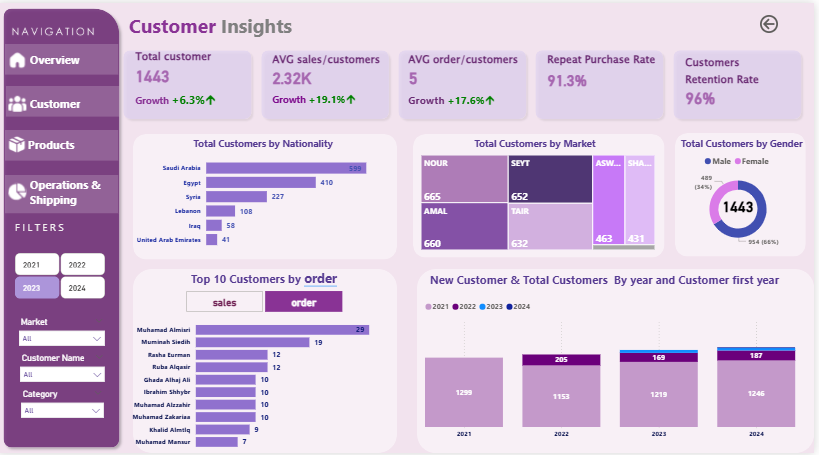

The dashboard page shown, as its layout file describes it:
{"tool":"powerbi","page":{"name":"Customer Insights","canvas":[1360,750],"ordinal":1},"visuals":[{"type":"shape","box":[691,219,419,206],"z":0},{"type":"shape","box":[431.5,72,227,129],"z":1000},{"type":"shape","box":[1118,72,227.5,128.8],"z":2000},{"type":"shape","box":[0,0,211.2,750],"z":3000},{"type":"shape","box":[11.2,68.8,188.8,51.2],"z":4000},{"type":"image","box":[16.1,35.7,150.9,30],"z":5000},{"type":"advancedSlicerVisual","fields":{"Values":["DimDate.Year"]},"box":[23.3,391.7,161.7,126.7],"z":6000},{"type":"textbox","box":[22.5,358.8,102.5,32.5],"z":7000},{"type":"actionButton","box":[13.8,67.5,163.8,53.8],"z":8000},{"type":"shape","box":[12.5,138.8,188.8,51.2],"z":9000},{"type":"shape","box":[11.2,211.2,188.8,51.2],"z":10000},{"type":"shape","box":[11.2,286.2,188.8,63.8],"z":11000},{"type":"actionButton","box":[13.8,139.3,165.9,55.3],"z":12000},{"type":"actionButton","box":[9.2,209.1,164.8,54.1],"z":13000},{"type":"actionButton","box":[12.5,277.5,165,72.5],"z":14000},{"type":"slicer","fields":{"Values":["Customers.customer Name"]},"box":[26.2,577.5,161.2,60],"z":15000},{"type":"slicer","fields":{"Values":["DimMarkets.Market"]},"box":[25,517.5,162.5,60],"z":16000},{"type":"slicer","fields":{"Values":["Products.Category"]},"box":[27.5,637.5,157.5,56.2],"z":17000},{"type":"actionButton","box":[1264.3,14.3,80,40],"z":18000},{"type":"shape","box":[889,72,227.5,128.8],"z":19000},{"type":"shape","box":[202,72,228,129],"z":20000},{"type":"shape","box":[660,72,227.5,128.8],"z":21000},{"type":"cardVisual","fields":{"Data":["Measures (2).Total customer"]},"box":[212,72,218,129],"z":22000},{"type":"cardVisual","fields":{"Data":["Measures (2).Average of sales by customers"]},"box":[440,78.3,220,116.7],"z":23000},{"type":"cardVisual","fields":{"Data":["Measures (2).Dynamic Retention Rate"]},"box":[1128.3,71.7,206.7,116.7],"z":24000},{"type":"cardVisual","fields":{"Data":["Measures (2).Repeat Purchase Rate"]},"box":[898,72,220,80],"z":25000},{"type":"cardVisual","fields":{"Data":["Measures (2).AVG order/customers"]},"box":[666.7,78.3,221.7,118.3],"z":26000},{"type":"textbox","box":[218.3,15,318.3,55],"z":27000},{"type":"shape","box":[698,443,662,307],"z":28000},{"type":"shape","box":[225,219,440,209],"z":29000},{"type":"shape","box":[1128,216,218,206],"z":30000},{"type":"donutChart","fields":{"Category":["Customers.Gender"],"Y":["Measures (2).Total customer active"]},"box":[1140,243.3,186.7,171.7],"z":31000},{"type":"barChart","title":"Total Customers by Nationality","fields":{"Category":["Customers.Nationality"],"Y":["Measures (2).Total customer"]},"box":[225,243.3,420,173.3],"z":32000},{"type":"textbox","box":[291.7,218.3,300,36.7],"z":33000},{"type":"treemap","fields":{"Group":["DimMarkets.Market"],"Values":["Measures (2).Total customer"]},"box":[700,248.3,400,168.3],"z":34000},{"type":"shape","box":[225,443.3,440,306.7],"z":35000},{"type":"advancedSlicerVisual","fields":{"Values":["parameter.sales order"]},"box":[311.7,478.3,265,38.3],"z":36000},{"type":"textbox","box":[316.7,438.3,268.3,45],"z":37000},{"type":"textbox","box":[741,218.3,306,36],"z":38000},{"type":"barChart","title":"Top 10 Customers  By Total Orders","fields":{"Category":["Customers.customer Name"],"Y":["Measures (2).O R D E R S"]},"box":[222,518,420,232],"z":39000},{"type":"textbox","box":[711.7,443.3,598.3,40],"z":40000},{"type":"columnChart","title":"Total customer by Year and Customer first year","fields":{"Category":["DimDate.Year"],"Series":["Customers.customer first year"],"Y":["Measures (2).Total customer active"]},"box":[707,486,627,249],"z":41000},{"type":"cardVisual","fields":{"Data":["Measures (2).Total customer"]},"box":[1190,300,93.3,78.3],"z":42000},{"type":"textbox","box":[1128,218.3,222,36],"z":43000}]}

Visuals, with their boxes in screenshot pixels (x1, y1, x2, y2), scaled from the page's 1360x750 canvas onto the 819x455 screenshot:
shape: 416,133,668,258
shape: 260,44,397,122
shape: 673,44,810,122
shape: 0,0,127,454
shape: 7,42,120,73
image: 10,22,101,40
advancedSlicerVisual - DimDate.Year: 14,238,111,314
textbox: 14,218,75,237
actionButton: 8,41,107,74
shape: 8,84,121,115
shape: 7,128,120,159
shape: 7,174,120,212
actionButton: 8,85,108,118
actionButton: 6,127,105,160
actionButton: 8,168,107,212
slicer - Customers.customer Name: 16,350,113,387
slicer - DimMarkets.Market: 15,314,113,350
slicer - Products.Category: 17,387,111,421
actionButton: 761,9,810,33
shape: 535,44,672,122
shape: 122,44,259,122
shape: 397,44,534,122
cardVisual - Measures (2).Total customer: 128,44,259,122
cardVisual - Measures (2).Average of sales by customers: 265,48,397,118
cardVisual - Measures (2).Dynamic Retention Rate: 679,43,804,114
cardVisual - Measures (2).Repeat Purchase Rate: 541,44,673,92
cardVisual - Measures (2).AVG order/customers: 401,48,535,119
textbox: 131,9,323,42
shape: 420,269,818,454
shape: 135,133,400,260
shape: 679,131,811,256
donutChart - Customers.Gender x Measures (2).Total customer active: 687,148,799,252
"Total Customers by Nationality" barChart: 135,148,388,253
textbox: 176,132,356,155
treemap - DimMarkets.Market x Measures (2).Total customer: 422,151,662,253
shape: 135,269,400,454
advancedSlicerVisual - parameter.sales order: 188,290,347,313
textbox: 191,266,352,293
textbox: 446,132,631,154
"Top 10 Customers  By Total Orders" barChart: 134,314,387,454
textbox: 429,269,789,293
"Total customer by Year and Customer first year" columnChart: 426,295,803,446
cardVisual - Measures (2).Total customer: 717,182,773,230
textbox: 679,132,813,154
